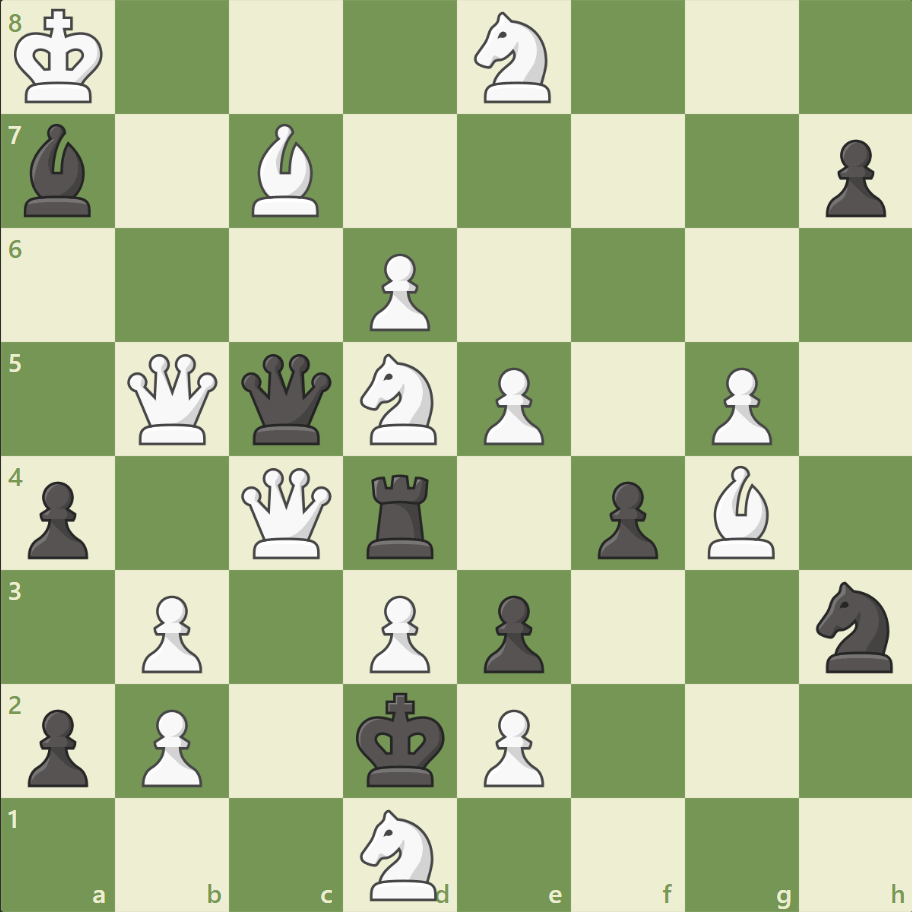B: (698, 460, 782, 563), (244, 120, 328, 222)
K: (11, 4, 111, 112)
N: (351, 348, 449, 450), (351, 802, 449, 904), (465, 7, 562, 110)
P: (474, 359, 549, 450), (701, 359, 776, 450), (133, 586, 208, 677), (133, 700, 208, 791), (474, 700, 549, 791), (361, 246, 435, 337), (361, 586, 435, 677)
Q: (124, 349, 223, 449), (237, 463, 336, 562)
b: (17, 120, 101, 222)
k: (351, 685, 451, 793)
n: (806, 575, 903, 677)
p: (20, 473, 95, 564), (474, 586, 549, 677), (20, 700, 95, 791), (815, 132, 889, 223), (588, 473, 662, 564)
q: (237, 349, 336, 449)
r: (360, 466, 442, 563)
